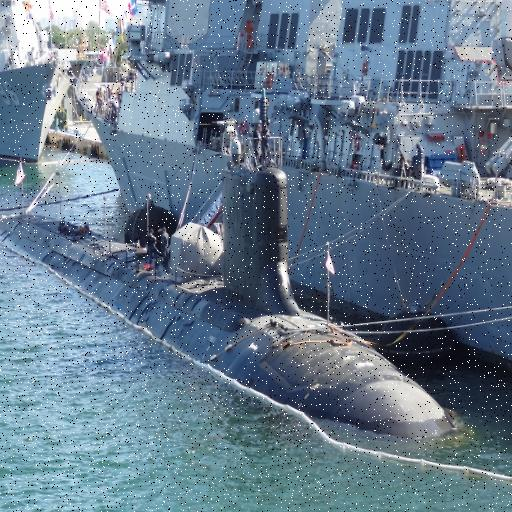submarine: (1, 159, 460, 445)
